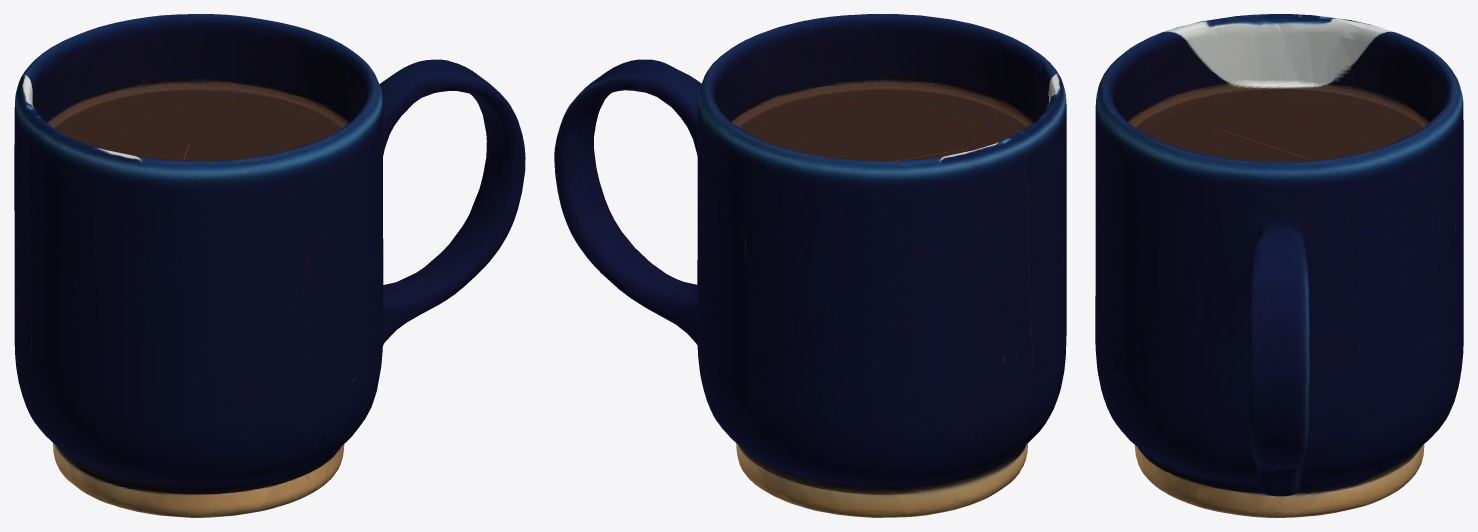
The model's file is mug-v3.glb.
3 renders of one model, left to right at view 1: azimuth 30°, elevation 25°; view 2: azimuth 150°, elevation 25°; view 3: azimuth 270°, elevation 25°, orthographic.
Visible parts, largest first — view 1: DECOR_MUG; view 2: DECOR_MUG; view 3: DECOR_MUG.
Boxes of the visible parts, box(x1,y1,x2,y2) form: DECOR_MUG: box(14, 14, 525, 517); DECOR_MUG: box(554, 14, 1066, 517); DECOR_MUG: box(1095, 14, 1463, 517).
Bounding box in the file's own units: 1.63 × 1.22 × 1.09.
Materials: 1 (1 with a texture image).
